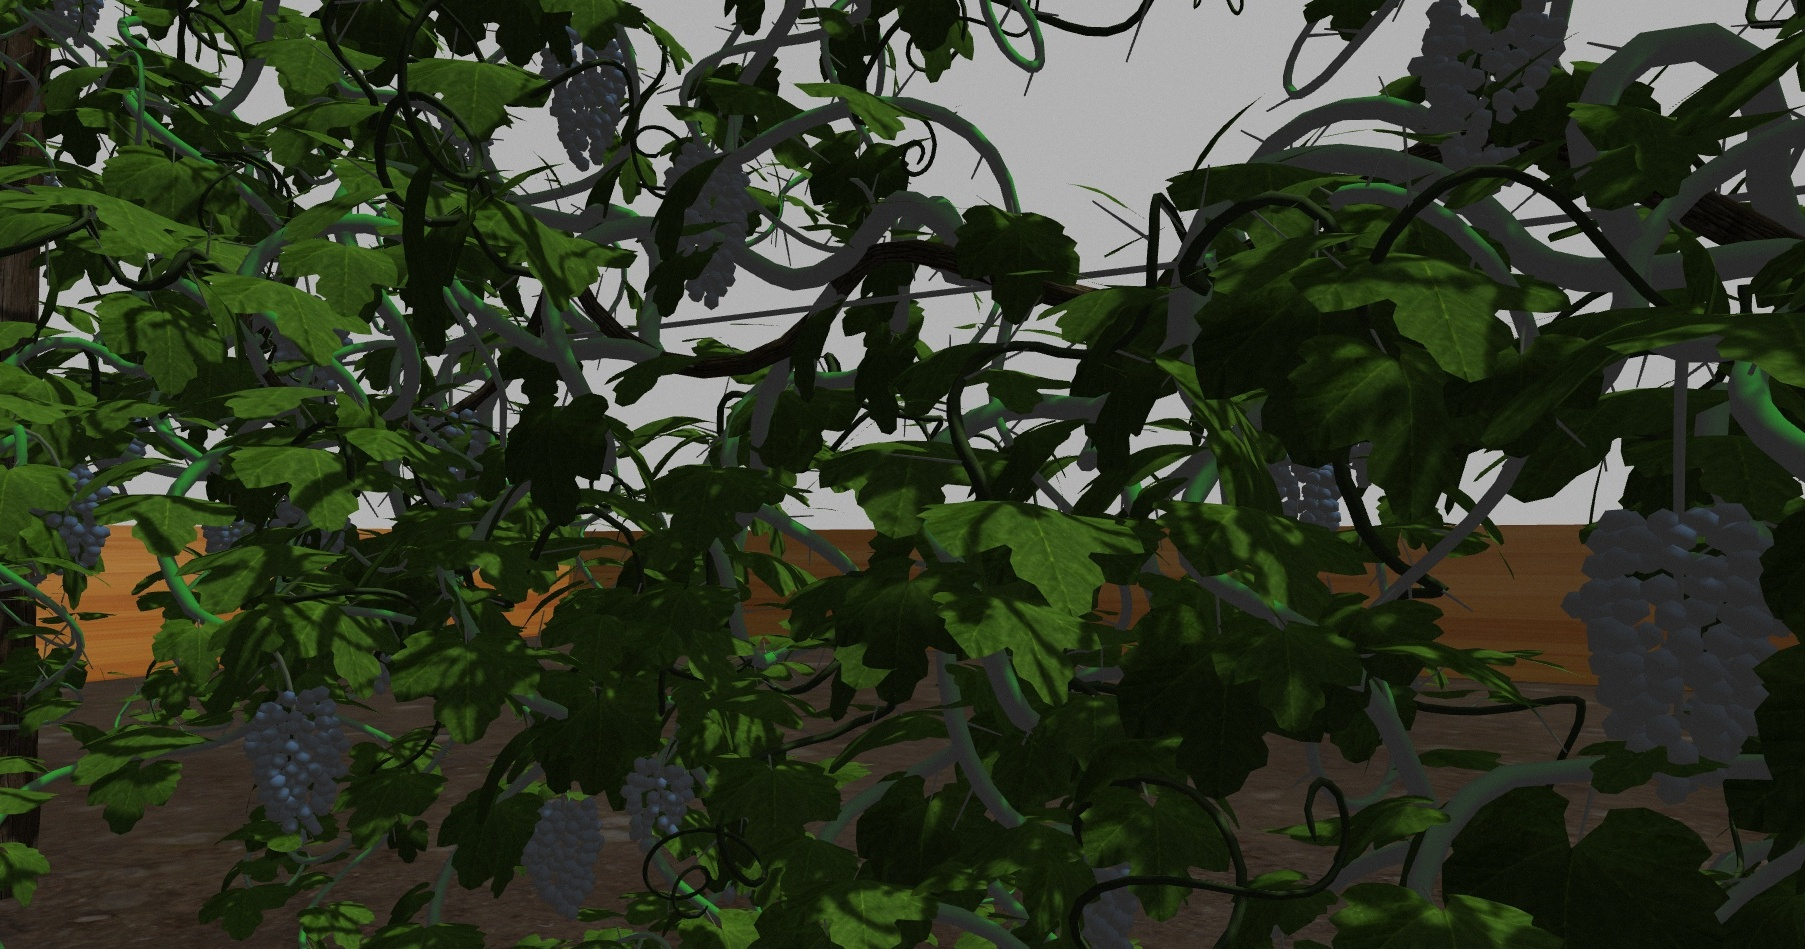grape: (1560, 498, 1780, 806), (1407, 8, 1555, 173), (241, 683, 351, 842), (658, 144, 751, 309), (544, 33, 630, 175), (519, 793, 608, 924), (618, 750, 695, 858)
